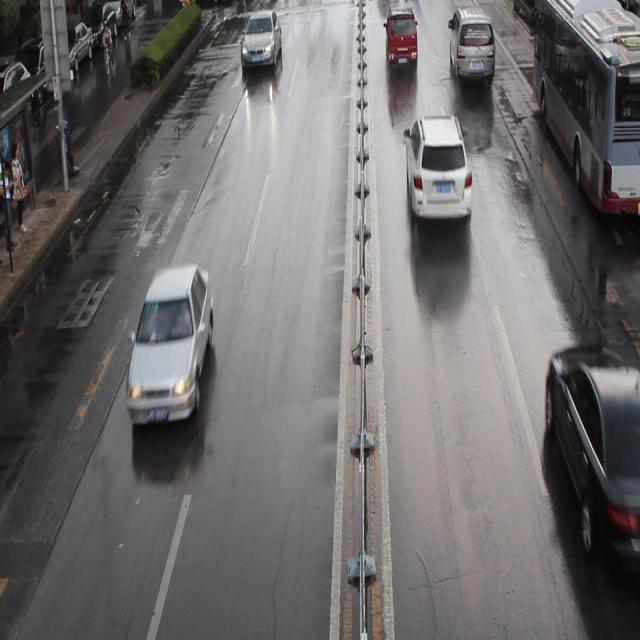car: (543, 343, 640, 570), (126, 262, 212, 422), (405, 115, 472, 222), (240, 9, 281, 67), (384, 8, 418, 64)
truck: (448, 8, 494, 82)
van: (530, 1, 640, 218)
